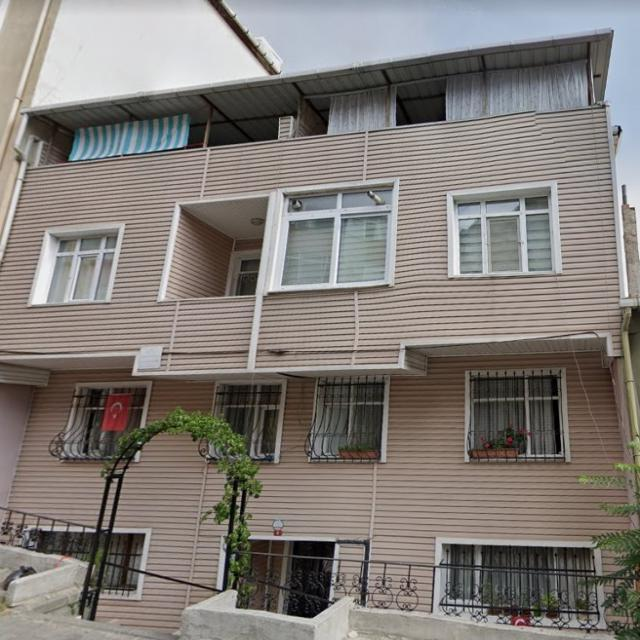Building: (0, 29, 640, 638)
